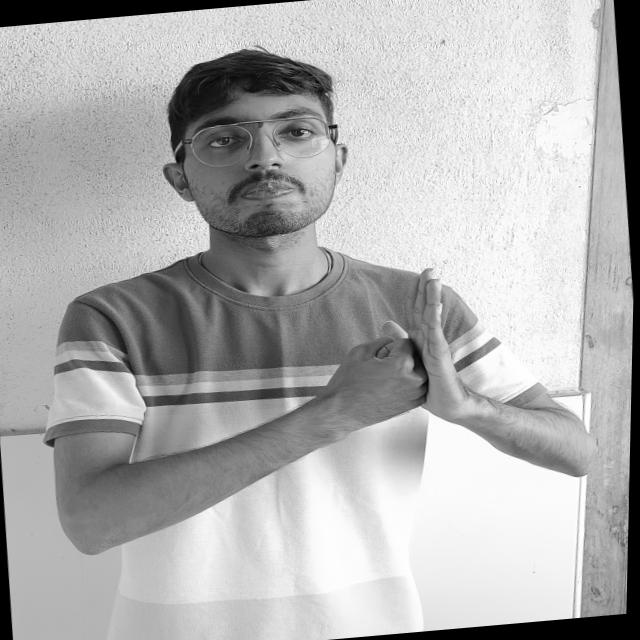Well Done: (231, 232, 549, 485)
